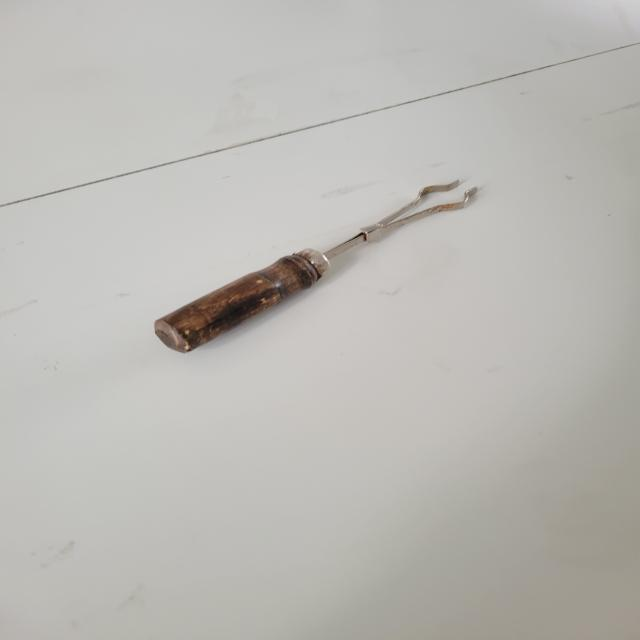TestTube_Holder: (130, 132, 522, 391)
